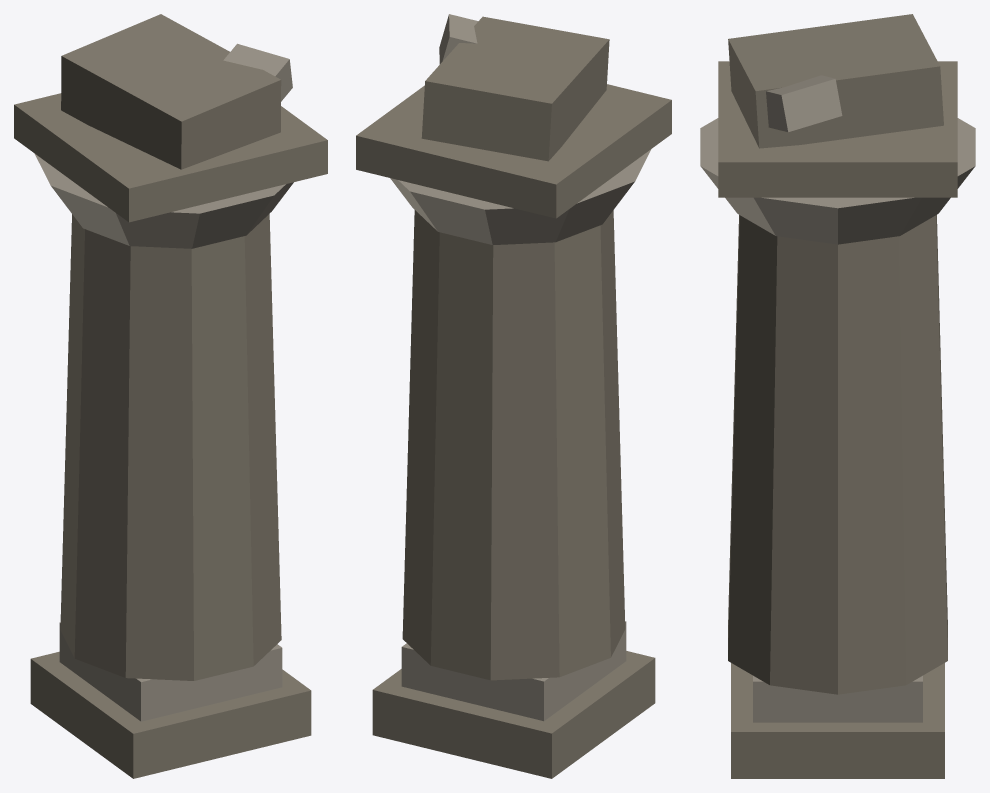
Rendered from land-forest-31.glb.
3 views of the same model, side by side, from view 1: azimuth 30°, elevation 25°; view 2: azimuth 150°, elevation 25°; view 3: azimuth 270°, elevation 25° (orthographic). The views are drawn at different scales.
Parts seen in each view (by area): view 1: land.forest.31; view 2: land.forest.31; view 3: land.forest.31.
Boxes of the visible parts, x1=… form: land.forest.31: x1=14, y1=14, x2=327, y2=778; land.forest.31: x1=356, y1=14, x2=671, y2=778; land.forest.31: x1=700, y1=14, x2=975, y2=778.
Bounding box in the file's own units: 1.29 × 3.4 × 1.23.
